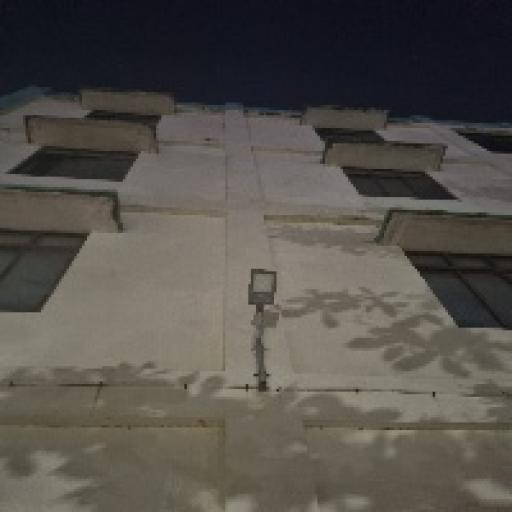Not Working: (237, 259, 289, 324)
